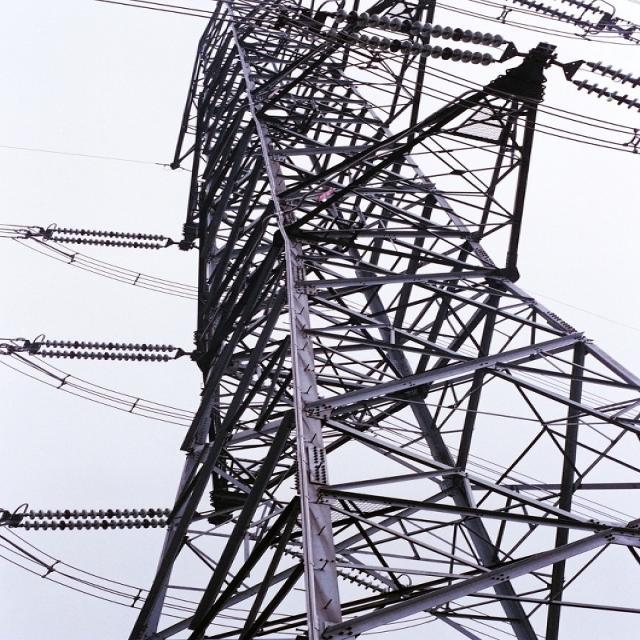non-critical vegetation: (85, 2, 636, 560)
